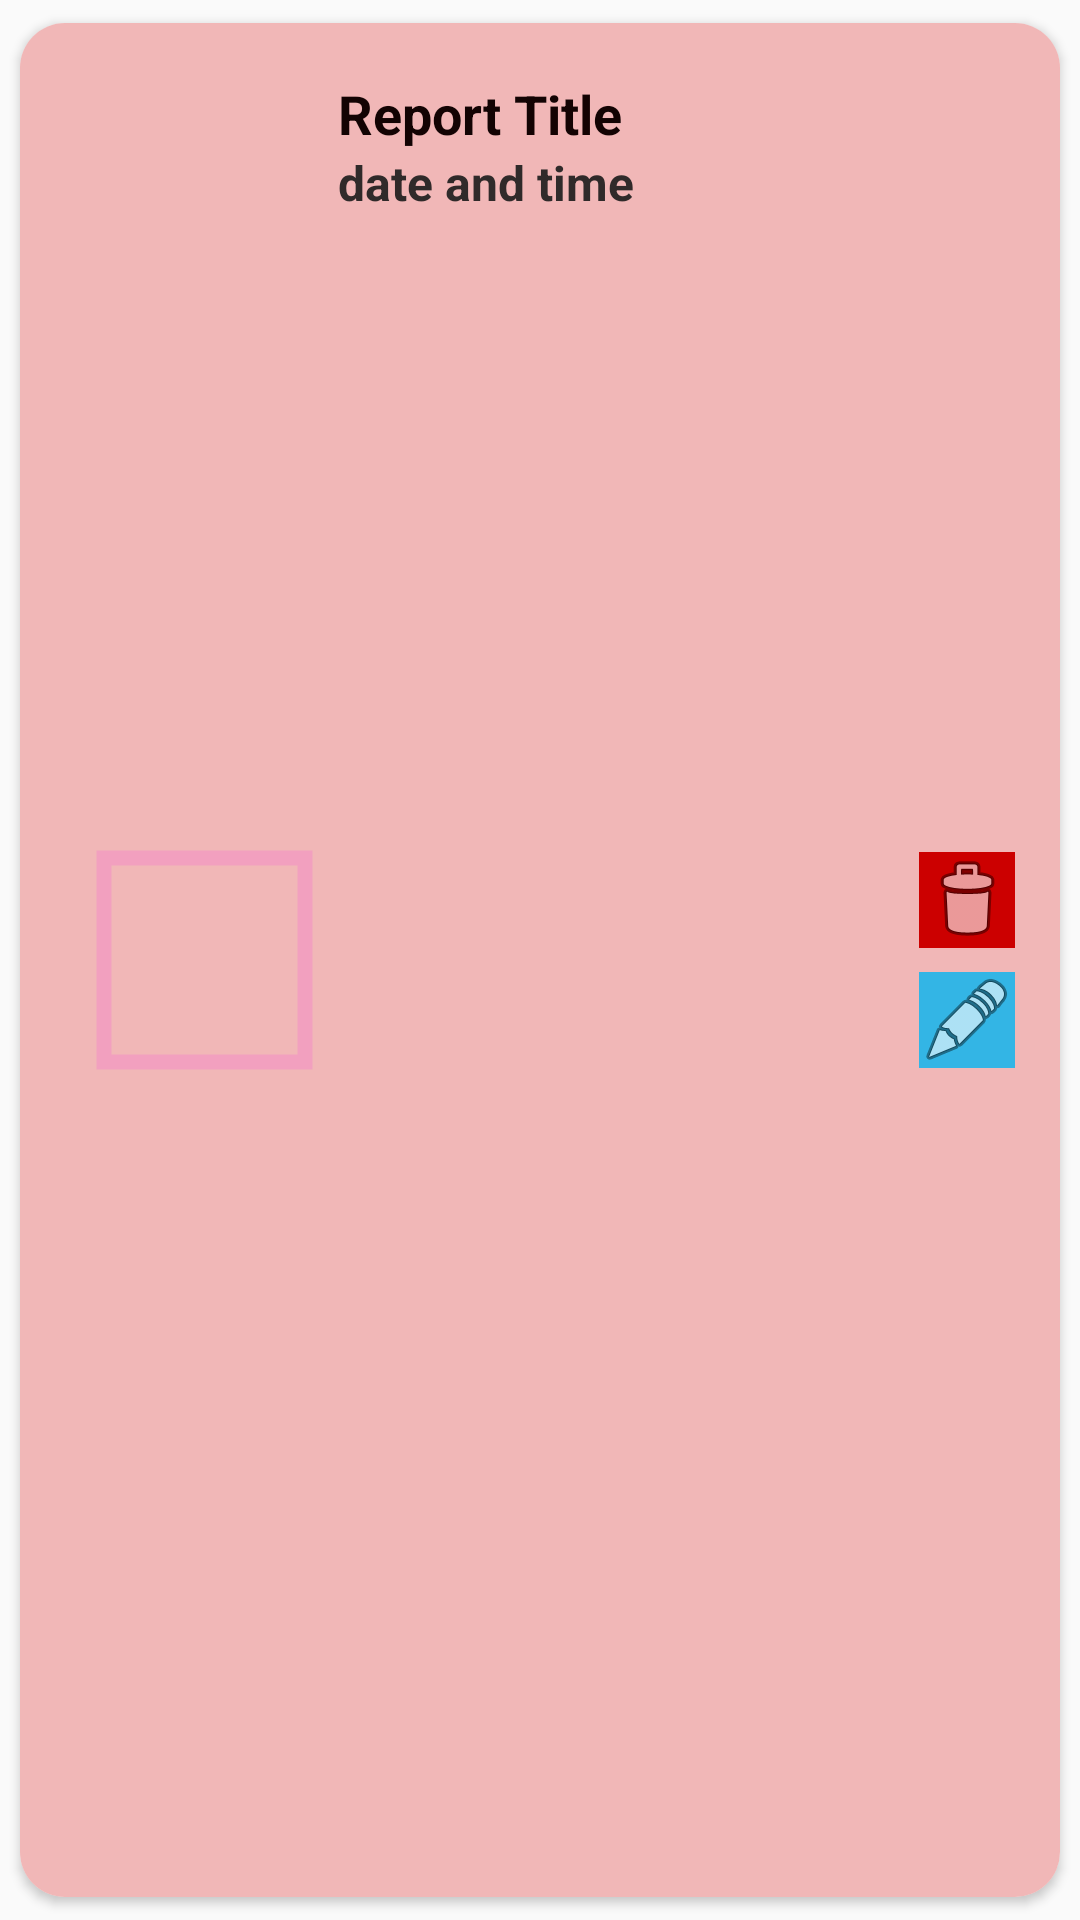

Locate icon controls on the screen. Image size 1080*1920, boxes as (left=x1, top=y1, right=x2, bottom=y2).
Delete Report: (left=919, top=852, right=1015, bottom=948)
Edit Report: (left=919, top=972, right=1015, bottom=1068)
